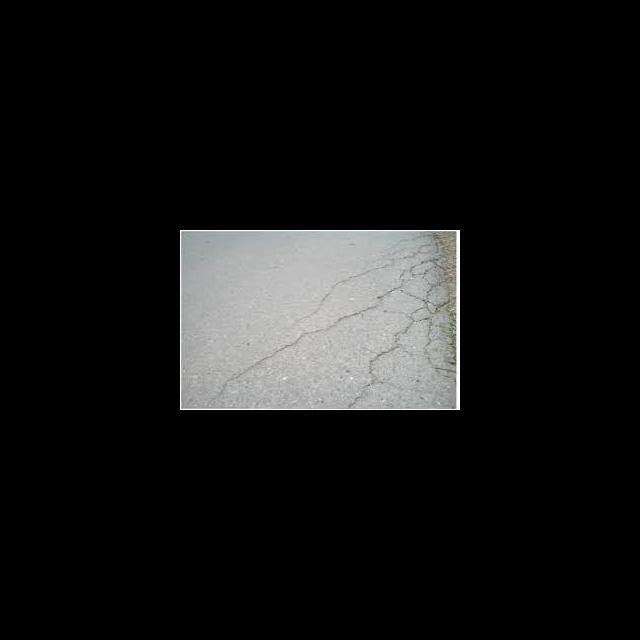retak_kulit_buaya: (390, 235, 445, 322)
retak_memanjang: (206, 304, 364, 404), (266, 259, 389, 331), (351, 320, 416, 408)
